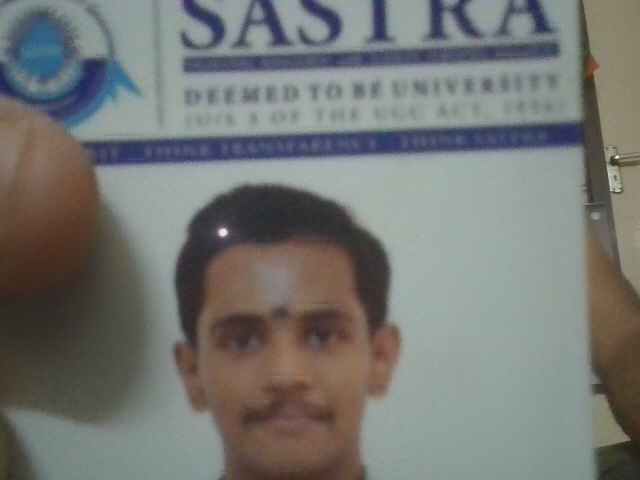fake: (175, 253, 388, 466)
